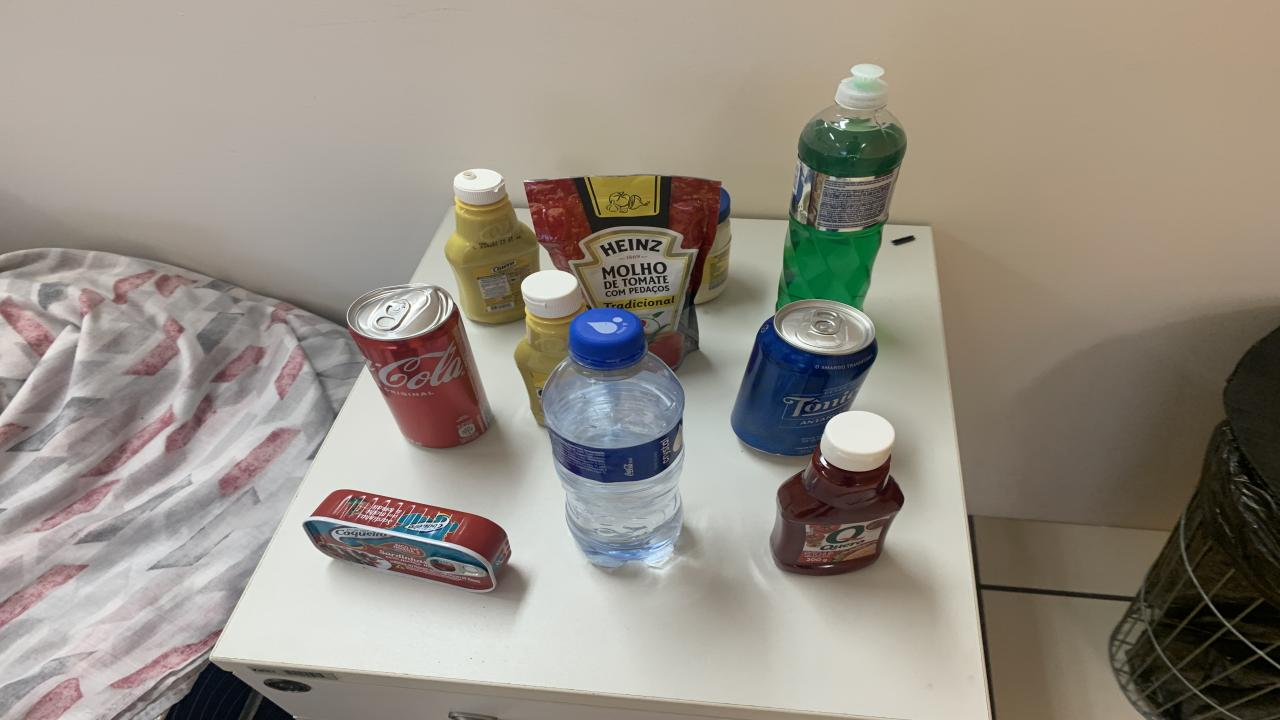Coke-Drinks: (348, 283, 492, 448)
Detergent-Cleanup_Items: (778, 64, 908, 308)
Ketchup-Pantry_Items: (770, 411, 905, 576)
Mayonnaise-Pantry_Items: (695, 188, 732, 304)
Mustard-Pantry_Items: (445, 169, 540, 322), (515, 270, 585, 426)
Tomato_Sauce-Pantry_Items: (525, 174, 722, 368)
Tonic-Drinks: (730, 300, 878, 456)
Tuna_Can-Pantry_Items: (302, 489, 510, 592)
Water_Bottle-Drinks: (542, 308, 685, 568)
